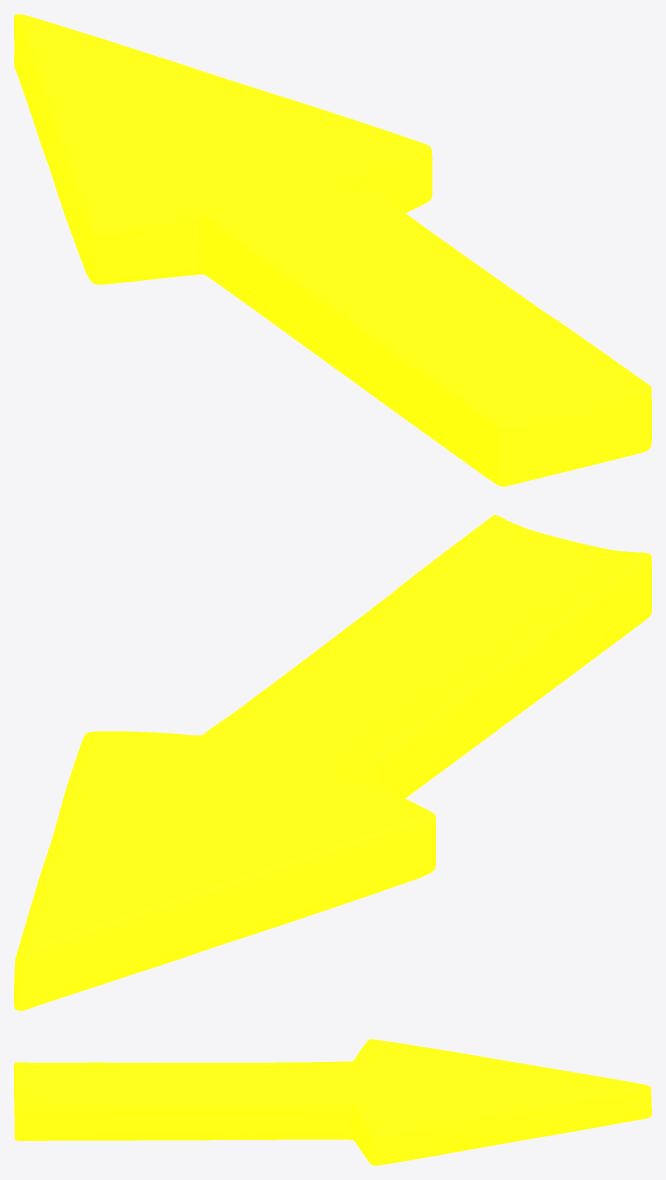
3 renders of one model, top to bottom at view 1: azimuth 30°, elevation 25°; view 2: azimuth 150°, elevation 25°; view 3: azimuth 270°, elevation 25°, orthographic. The views are drawn at different scales.
Visible parts, largest first — view 1: Mesh_0.001; view 2: Mesh_0.001; view 3: Mesh_0.001.
Part boxes in pixels (x1=…): Mesh_0.001: x1=14, y1=14, x2=651, y2=486; Mesh_0.001: x1=14, y1=515, x2=651, y2=1010; Mesh_0.001: x1=14, y1=1039, x2=651, y2=1165.
Bounding box in the file's own units: 0.7153 × 0.135 × 2.
